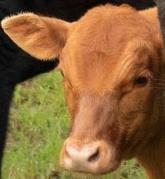muzzles: (57, 137, 112, 174)
